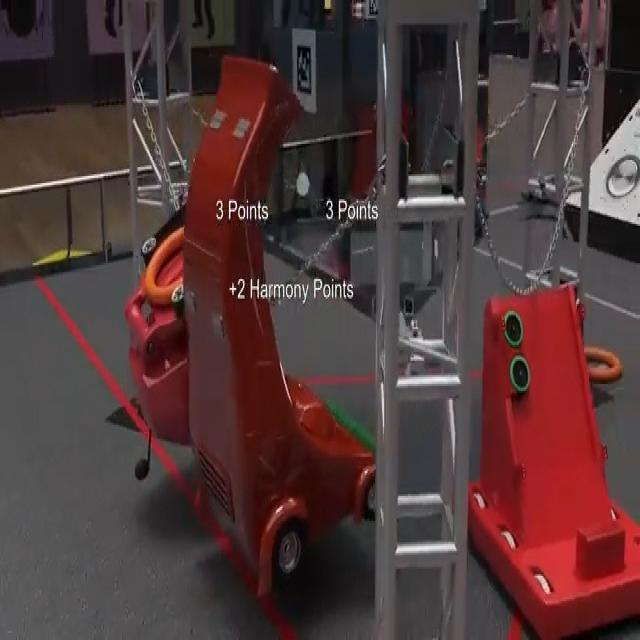notes: (585, 344, 621, 382)
